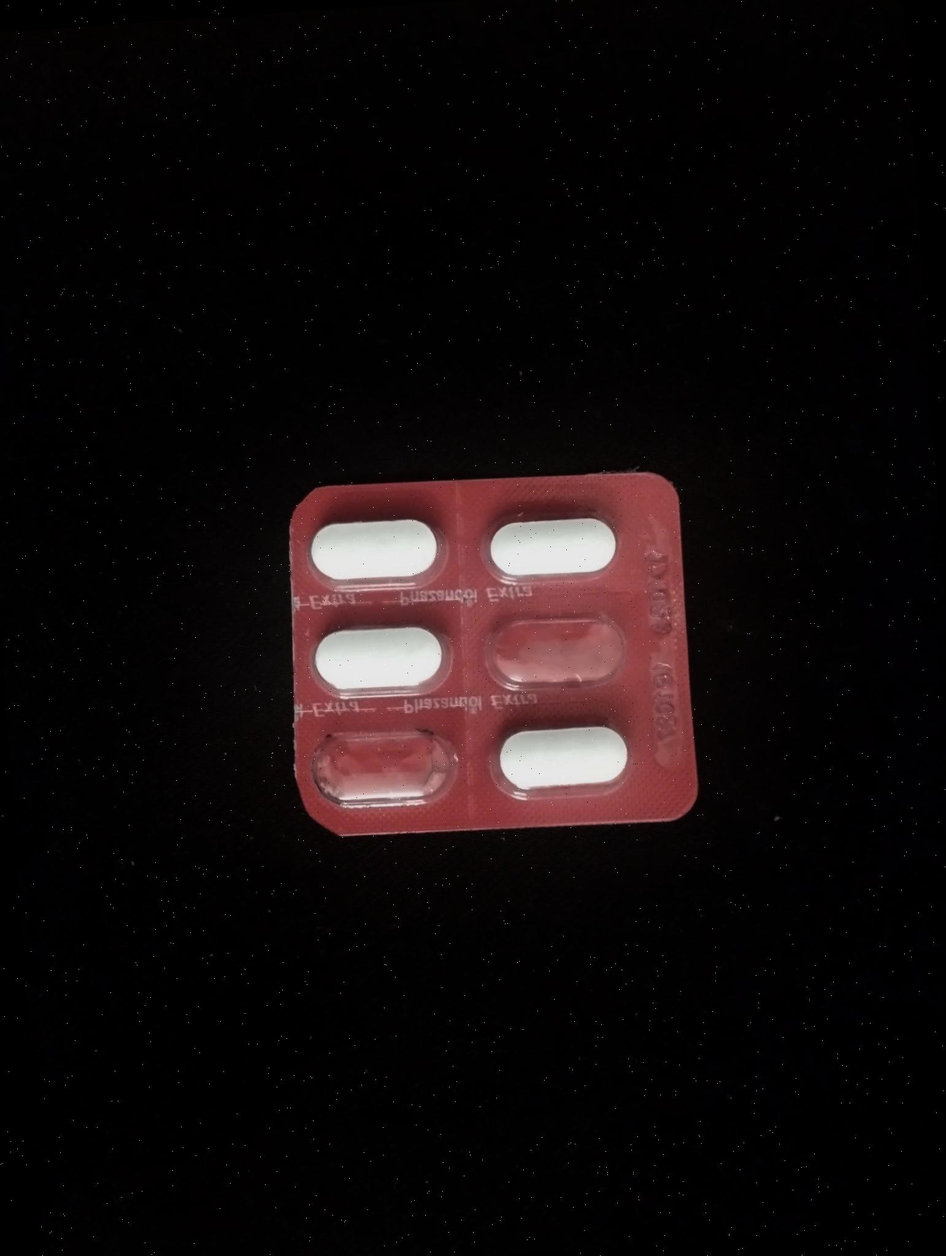Empty: (307, 722, 460, 809), (479, 612, 627, 695)
Full: (493, 708, 640, 796), (301, 504, 455, 588), (303, 616, 454, 698), (475, 507, 628, 580)
